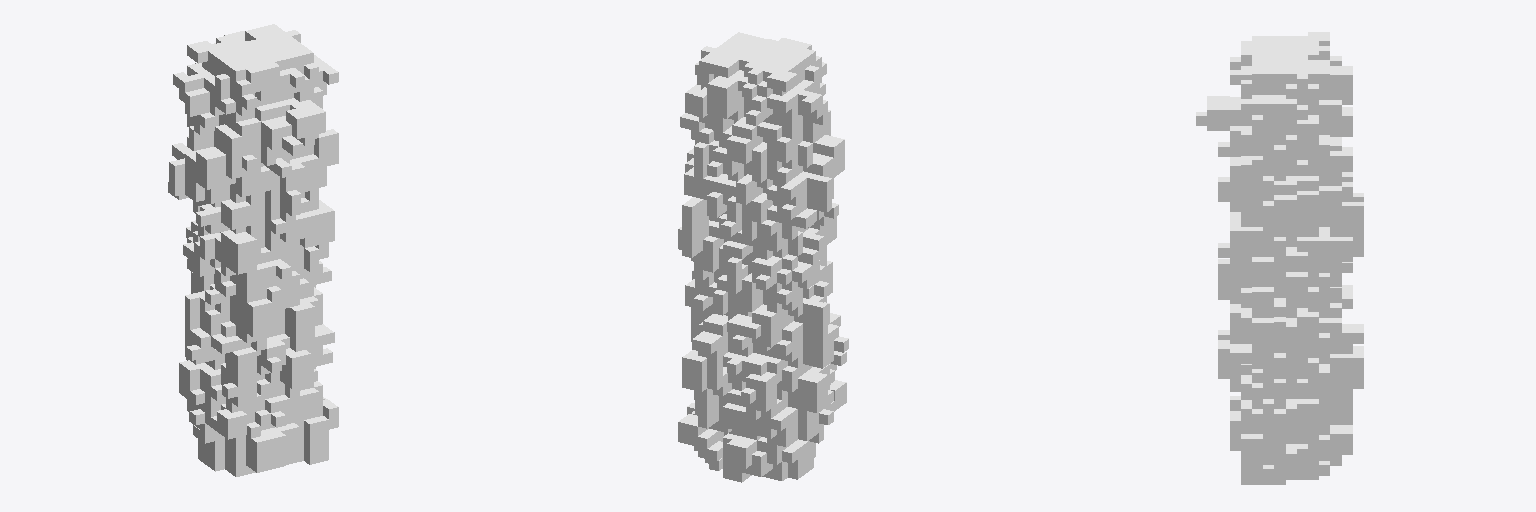
File: CoralReif1.obj
3 renders of one model, left to right at view 1: azimuth 30°, elevation 25°; view 2: azimuth 150°, elevation 25°; view 3: azimuth 270°, elevation 25°, orthographic.
Parts seen in each view (by area): view 1: object 1; view 2: object 1; view 3: object 1.
Boxes of the visible parts, <box> form: object 1: <box>168,24,338,476</box>; object 1: <box>678,32,848,482</box>; object 1: <box>1196,32,1363,484</box>.
Size of the model in its own units: 1.5 by 4 by 1.5.